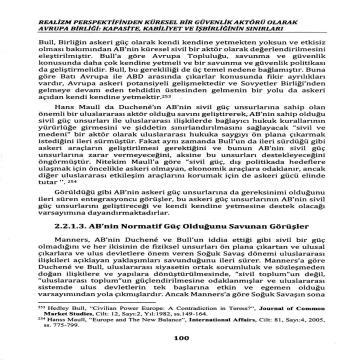footer: (43, 306, 327, 329)
header: (35, 17, 304, 32)
